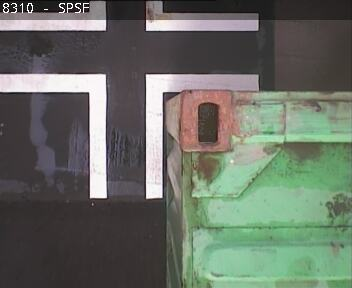groundmarker_1: (1, 73, 257, 199), (1, 1, 258, 32)
